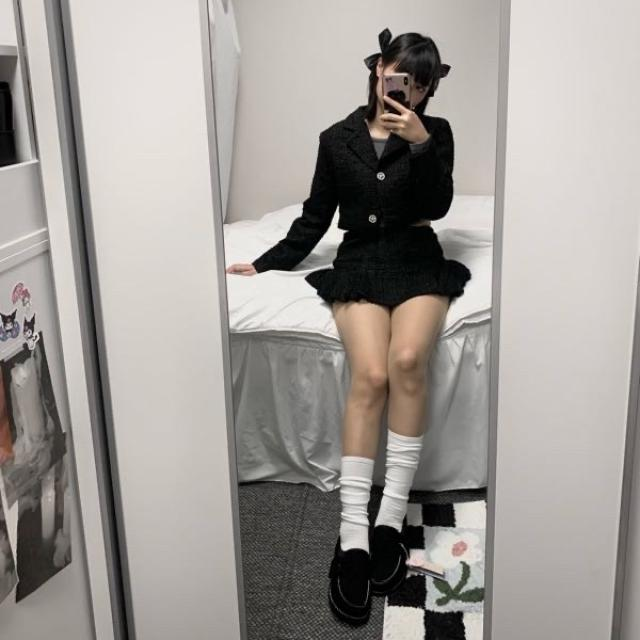blazer: (251, 105, 453, 274)
skirt: (301, 228, 471, 306)
